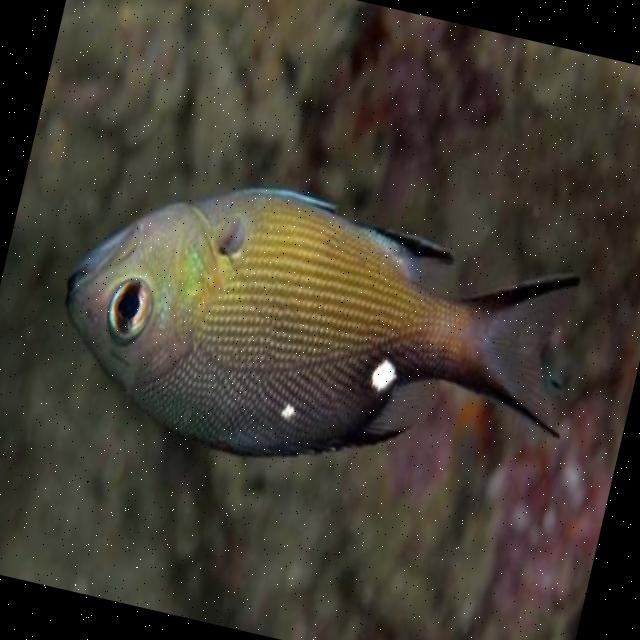ikan: (34, 144, 600, 530)
